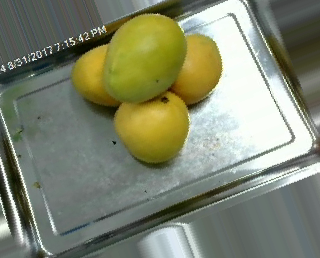Mango: (101, 14, 187, 103), (112, 90, 190, 163), (164, 36, 221, 105), (72, 43, 124, 108)
